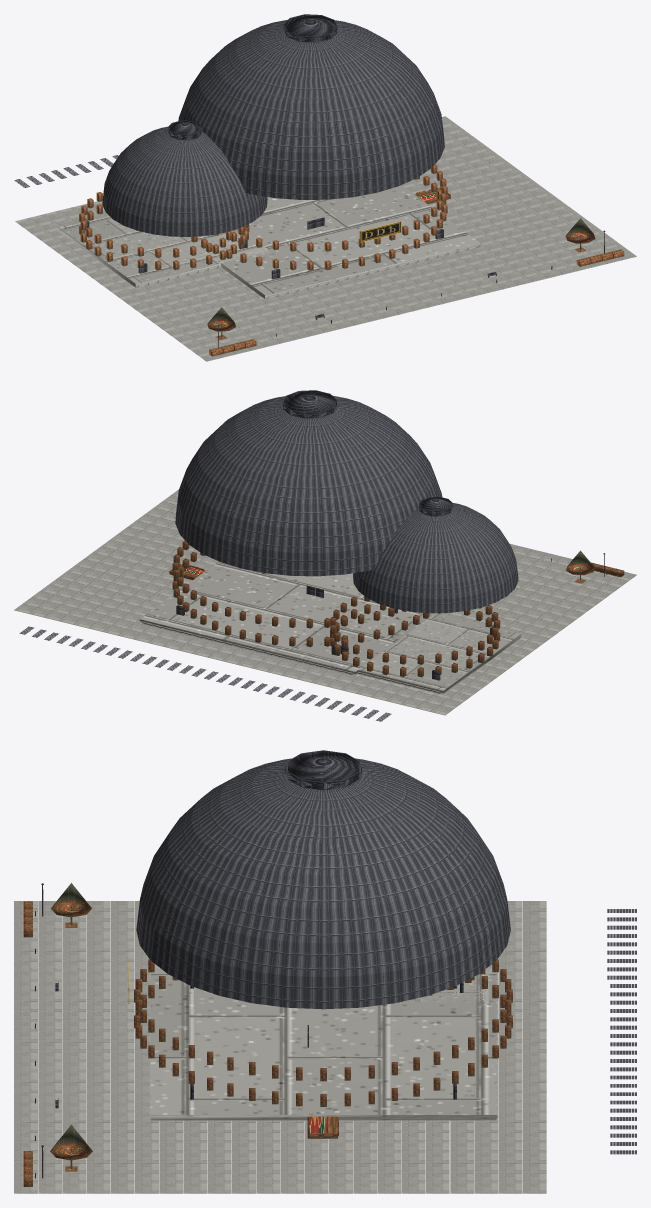
3 renders of one model, top to bottom at view 1: azimuth 30°, elevation 25°; view 2: azimuth 150°, elevation 25°; view 3: azimuth 270°, elevation 25°, orthographic. The views are drawn at different scales.
Visible parts, largest first — view 1: 11140_02_04565_036_01__plinth_ground_base, 11140_02_04565_036_03__roof_deck_structure, 11140_02_04565_036_05__window_sash_glass, 11140_02_04565_036_03__roof_metal_ornament, 11140_02_04565_036_06__landscape_greenery, 11140_02_04565_036_05__door_hardware_iron; view 2: 11140_02_04565_036_03__roof_deck_structure, 11140_02_04565_036_01__plinth_ground_base, 11140_02_04565_036_05__window_sash_glass, 11140_02_04565_036_03__roof_metal_ornament, 11140_02_04565_036_06__landscape_greenery, 11140_02_04565_036_05__door_hardware_iron; view 3: 11140_02_04565_036_01__plinth_ground_base, 11140_02_04565_036_03__roof_deck_structure, 11140_02_04565_036_05__window_sash_glass, 11140_02_04565_036_06__landscape_greenery, 11140_02_04565_036_03__roof_metal_ornament, 11140_02_04565_036_02__mass_body_facade.
Part boxes in pixels (x1,y1,x2,y2): 11140_02_04565_036_01__plinth_ground_base: (15,116,636,361); 11140_02_04565_036_03__roof_deck_structure: (14,20,444,236); 11140_02_04565_036_05__window_sash_glass: (79,164,447,270); 11140_02_04565_036_03__roof_metal_ornament: (168,14,337,140); 11140_02_04565_036_06__landscape_greenery: (207,218,624,356); 11140_02_04565_036_05__door_hardware_iron: (85,217,605,347); 11140_02_04565_036_03__roof_deck_structure: (19,396,518,721); 11140_02_04565_036_01__plinth_ground_base: (14,489,636,715); 11140_02_04565_036_05__window_sash_glass: (172,540,500,677); 11140_02_04565_036_03__roof_metal_ornament: (282,390,452,516); 11140_02_04565_036_06__landscape_greenery: (566,550,624,583); 11140_02_04565_036_05__door_hardware_iron: (176,553,607,680); 11140_02_04565_036_01__plinth_ground_base: (14,901,546,1193); 11140_02_04565_036_03__roof_deck_structure: (136,758,636,1154); 11140_02_04565_036_05__window_sash_glass: (134,959,512,1128); 11140_02_04565_036_06__landscape_greenery: (23,883,92,1186); 11140_02_04565_036_03__roof_metal_ornament: (285,750,361,790); 11140_02_04565_036_02__mass_body_facade: (307,1116,338,1138).
Size of the model in its own units: 95.95 by 43.97 by 86.47.
Materials: 7 (7 with a texture image).
